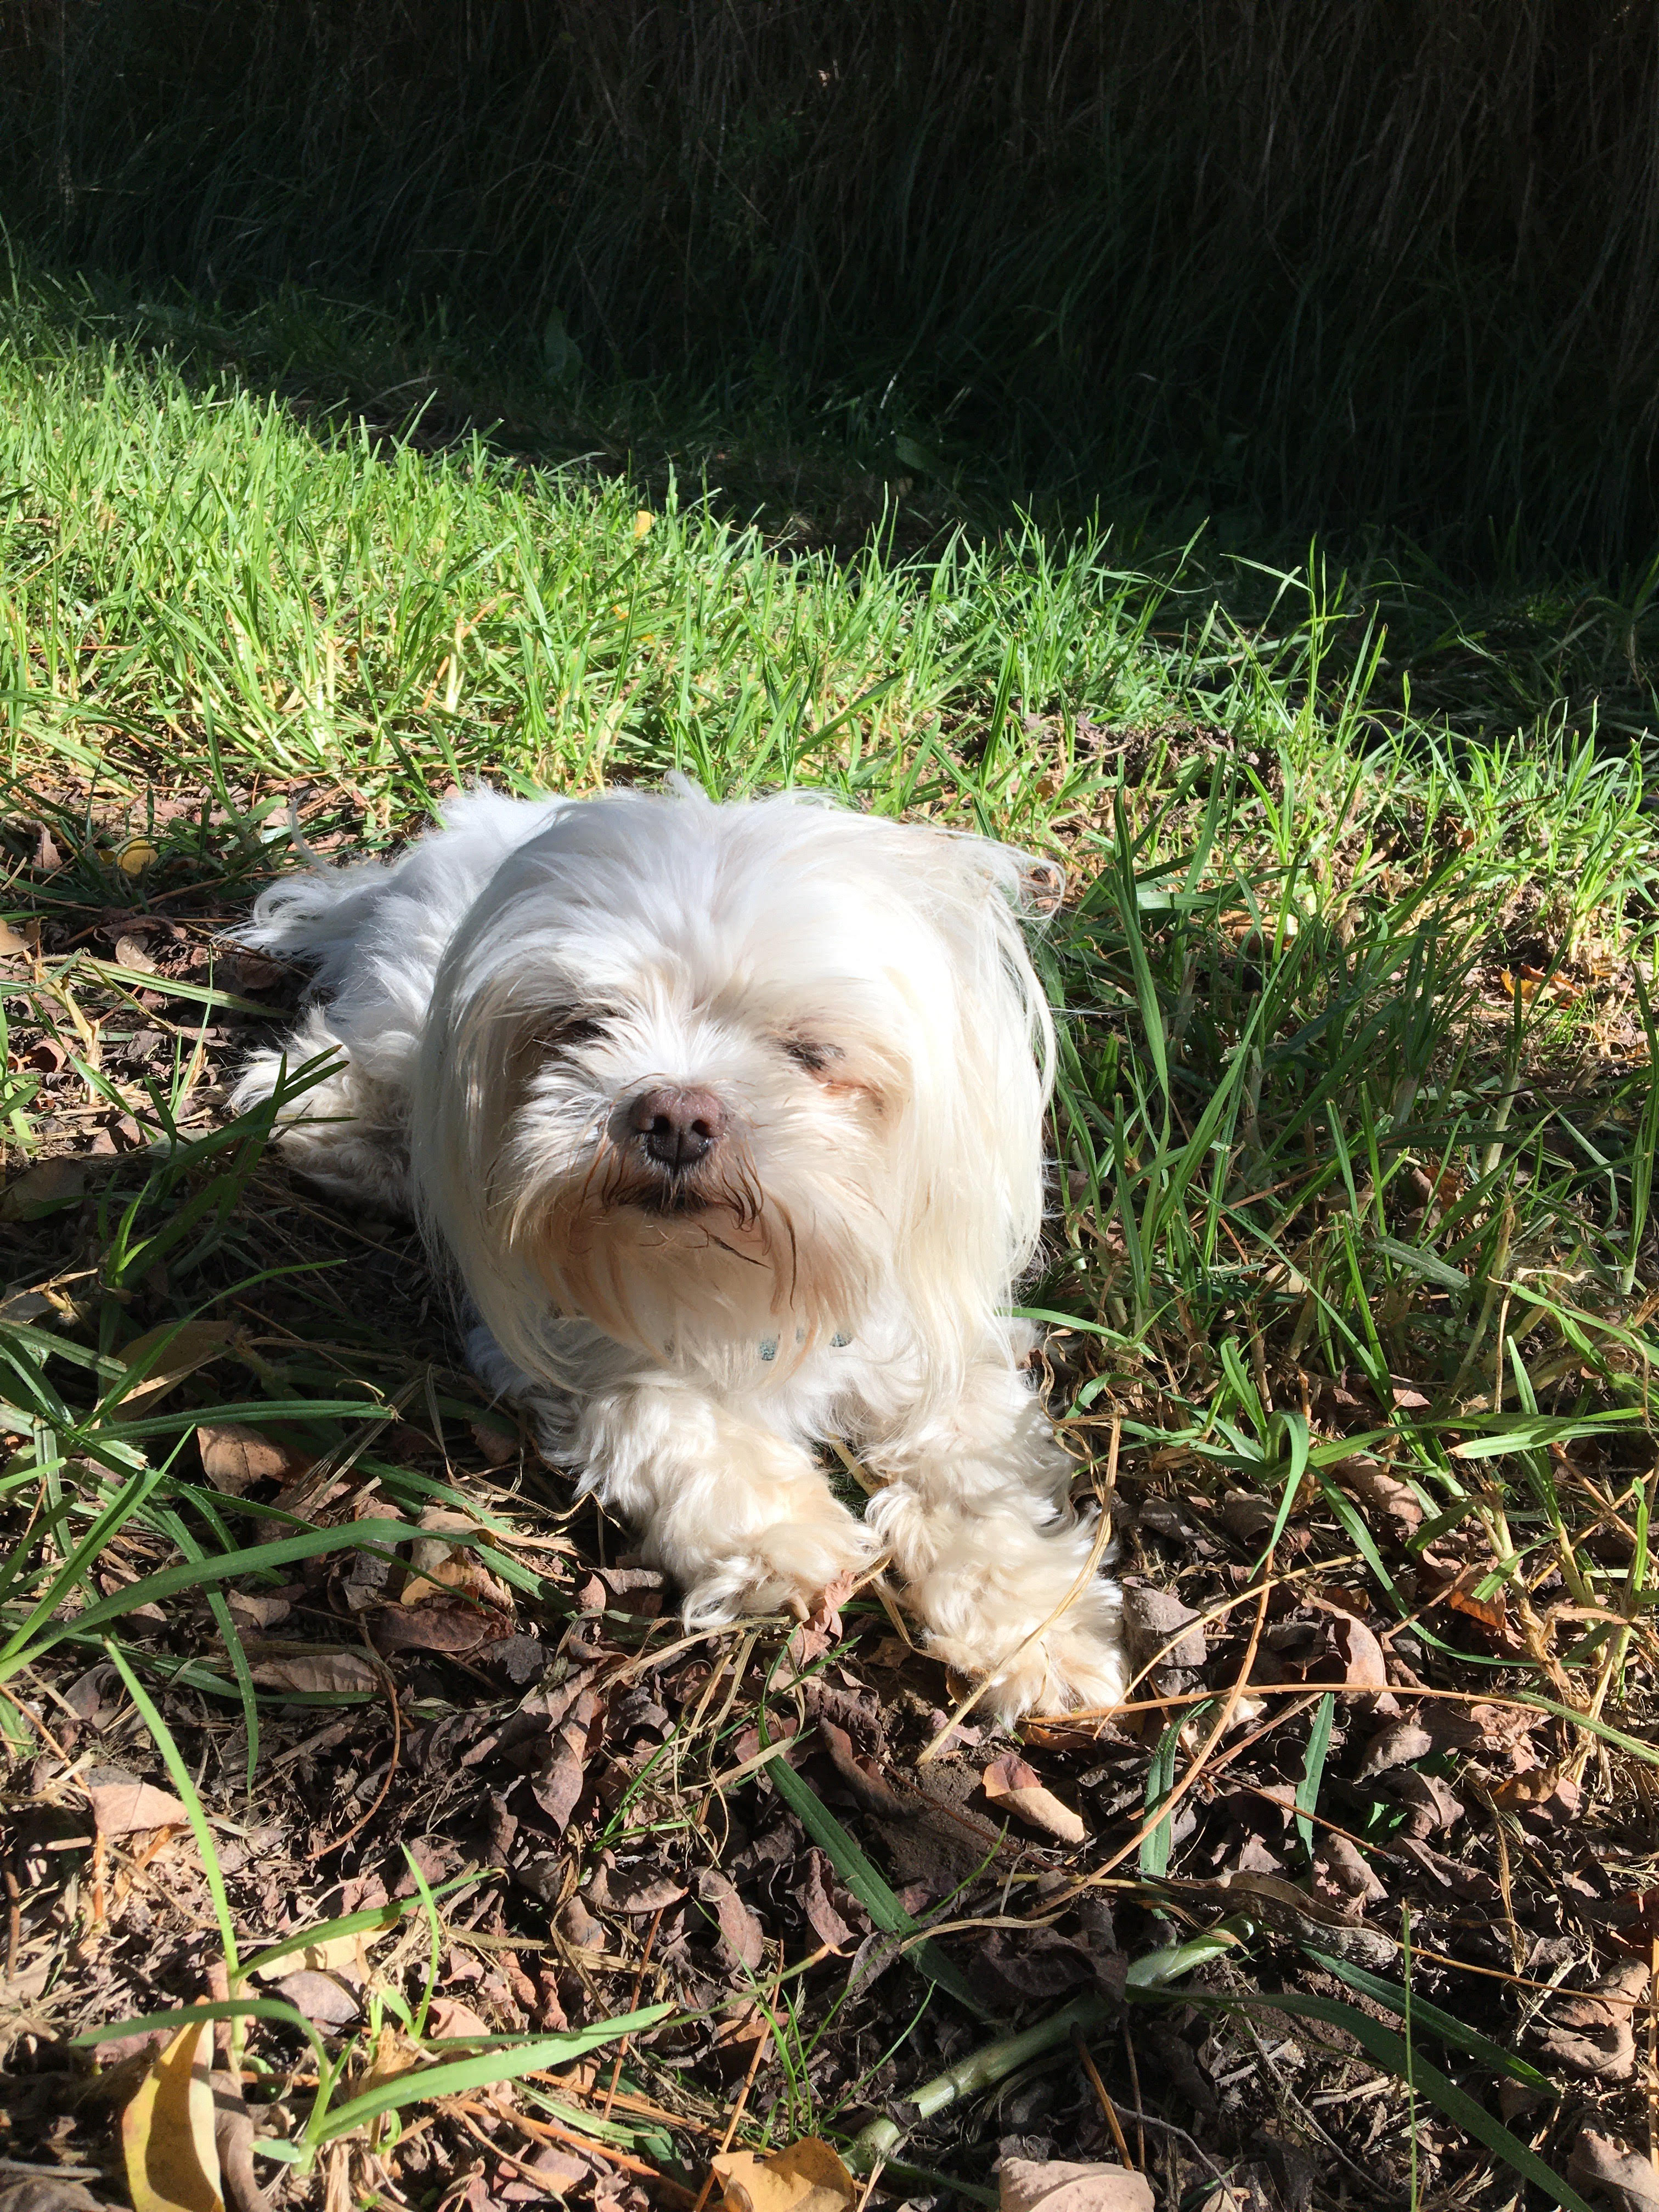bambi: (220, 777, 1131, 1733)
